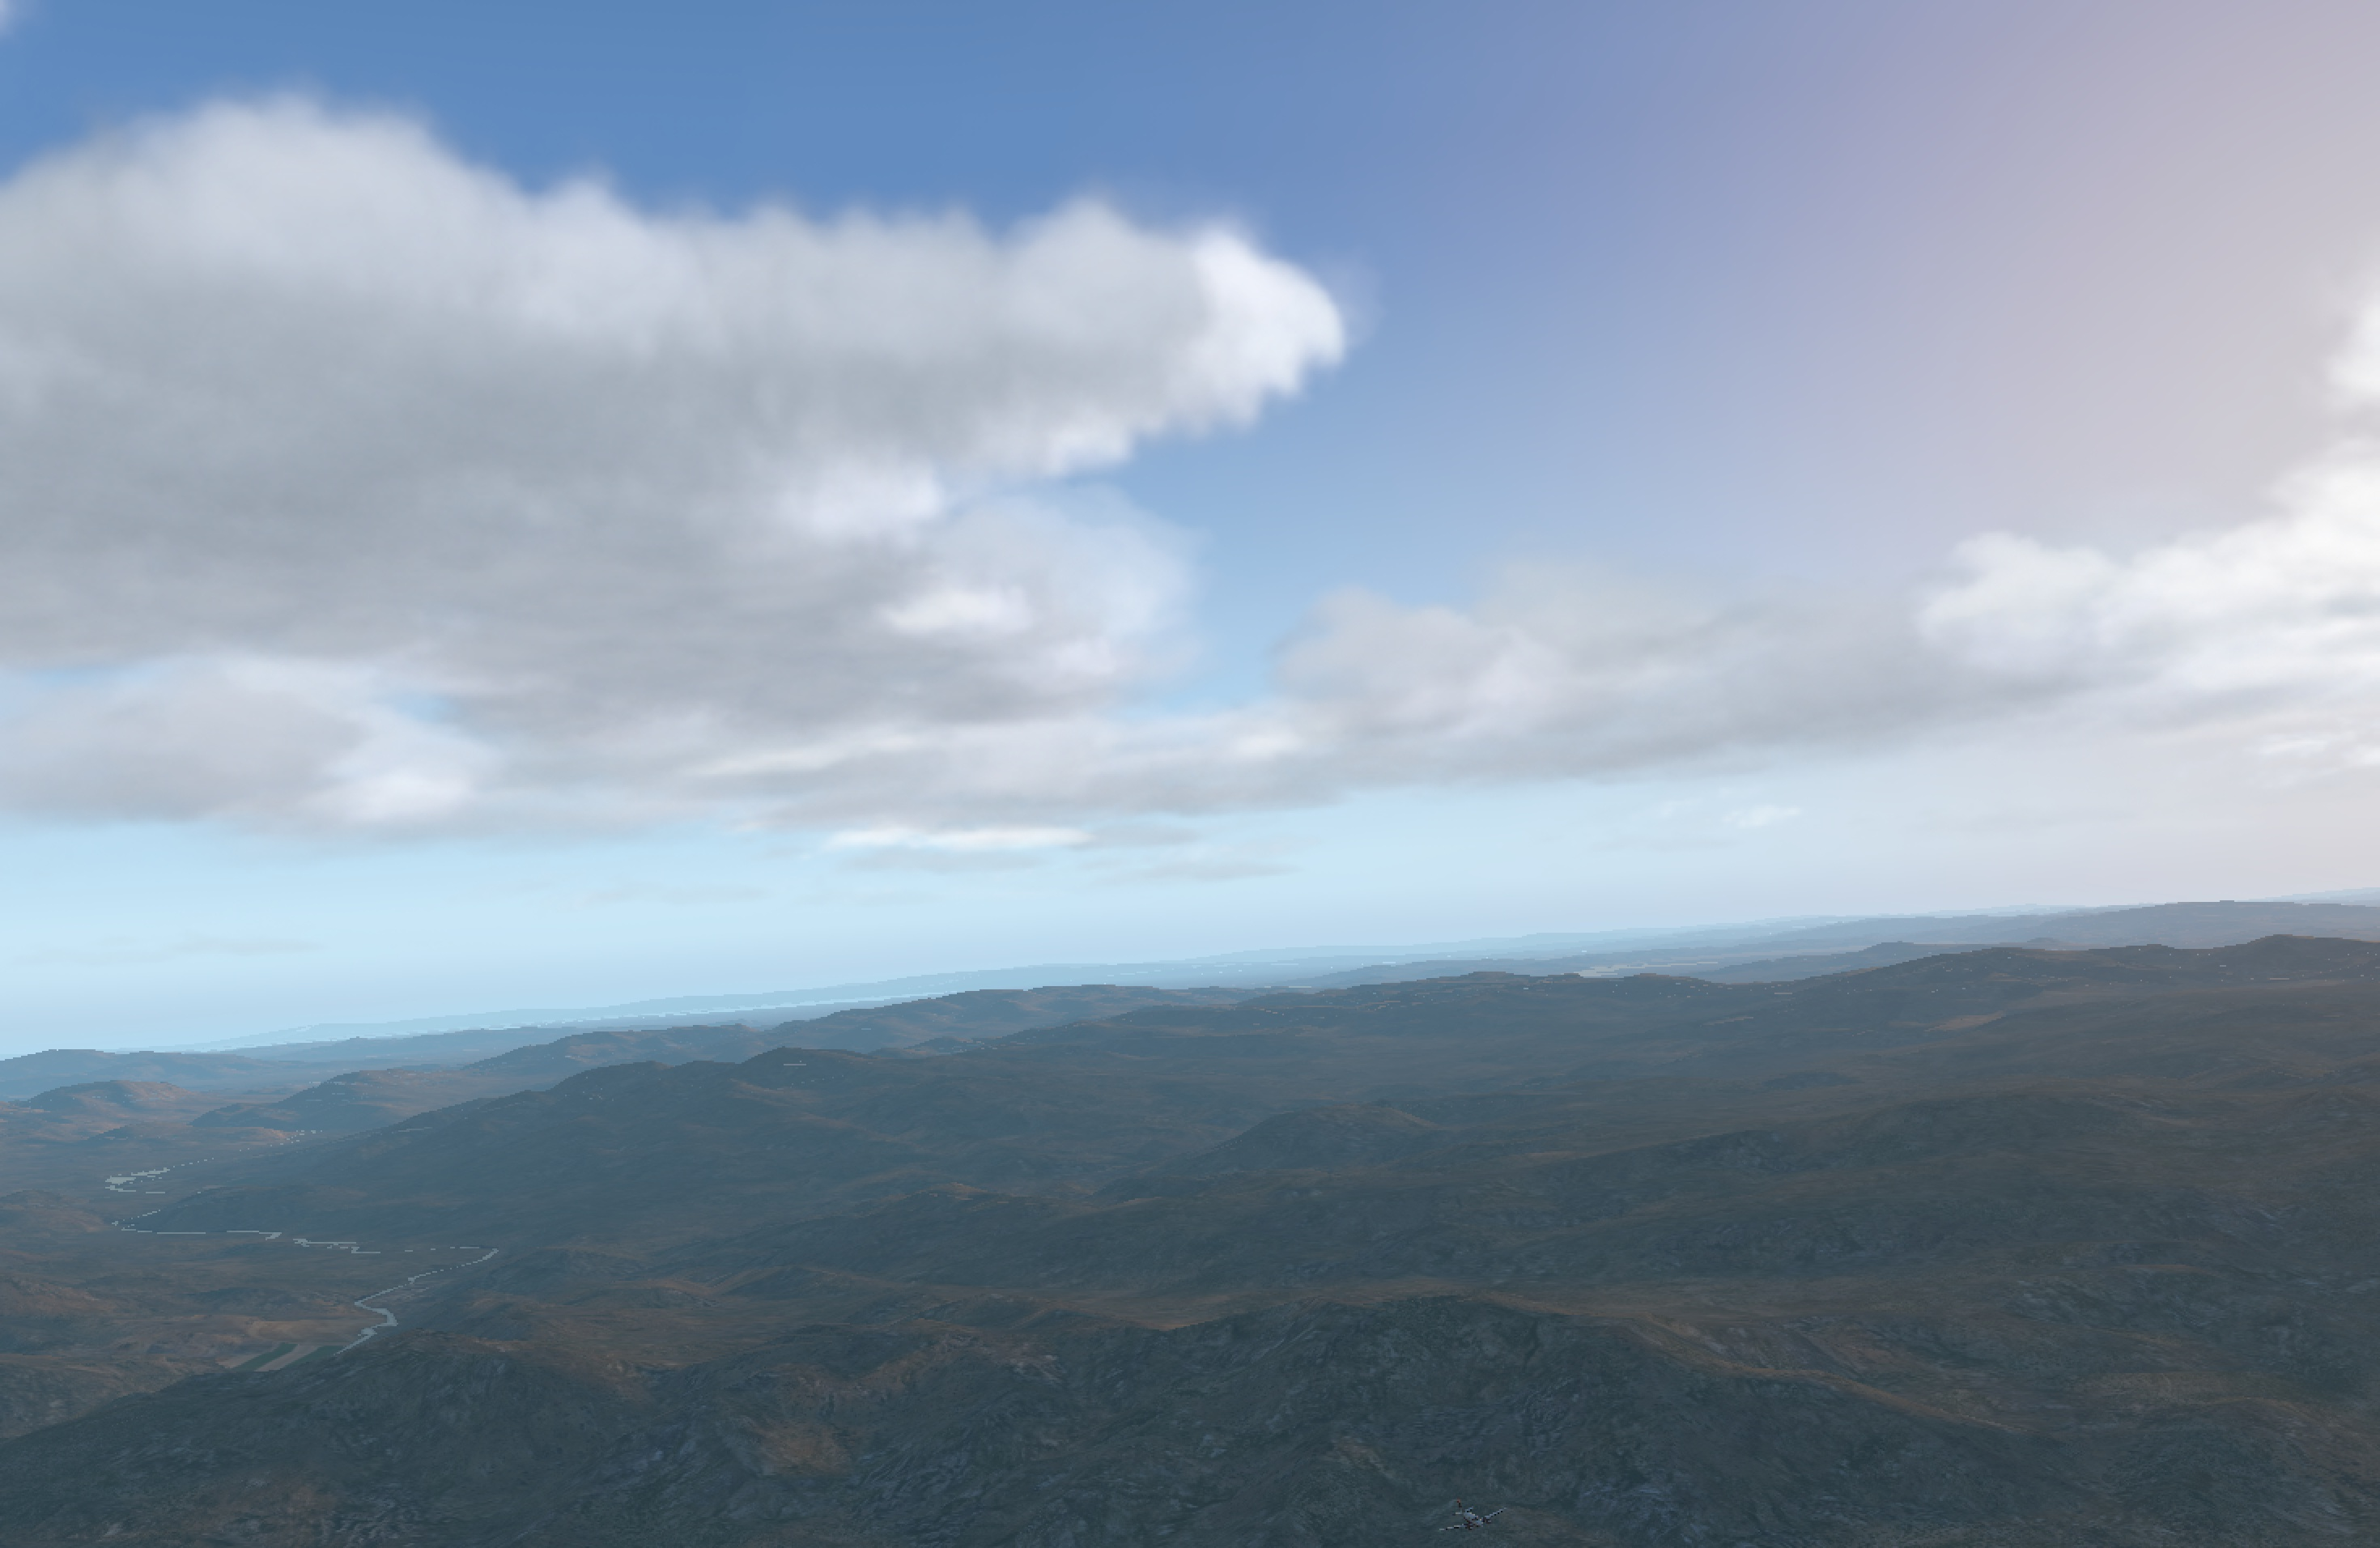aircraft: (1438, 1510, 1513, 1538)
